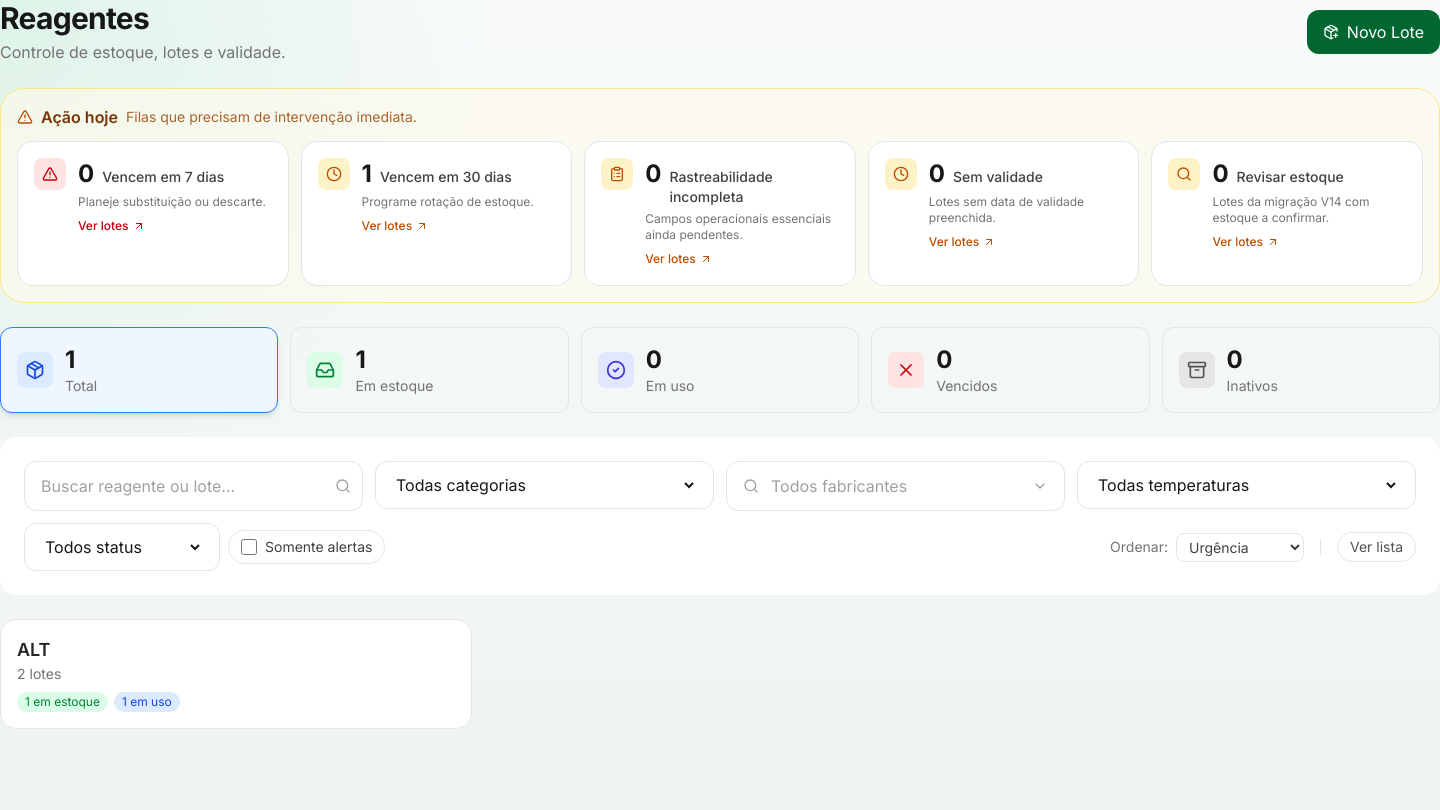
Test: ReagentesTab v3 › valida etiqueta antes de cadastrar lote novo
The width and height of the screenshot is (1440, 810).
Click the button "Novo Lote" at (1373, 32), box [1307,10,1439,54]
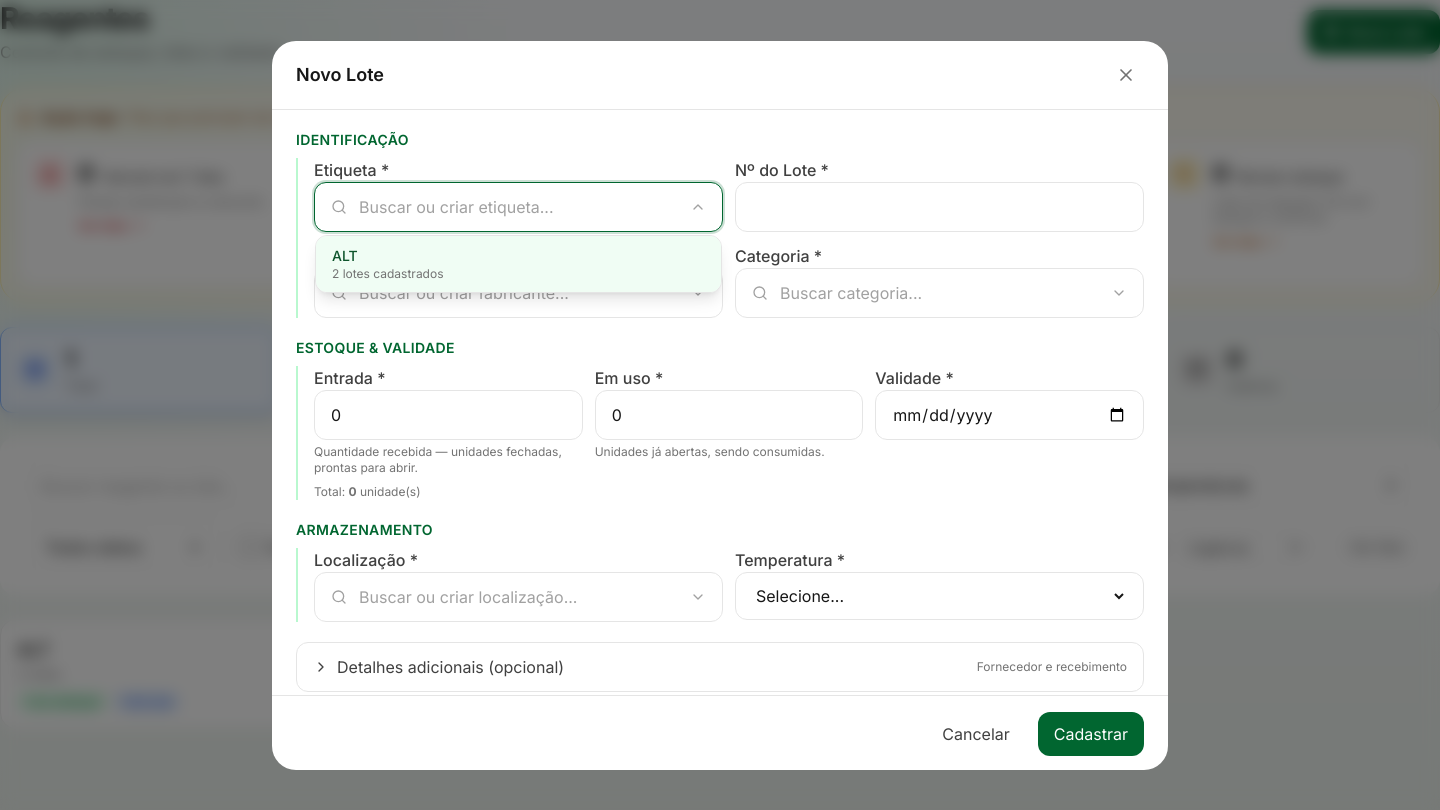
Click the button "Cadastrar" at (1091, 734), box [1038,712,1144,756]
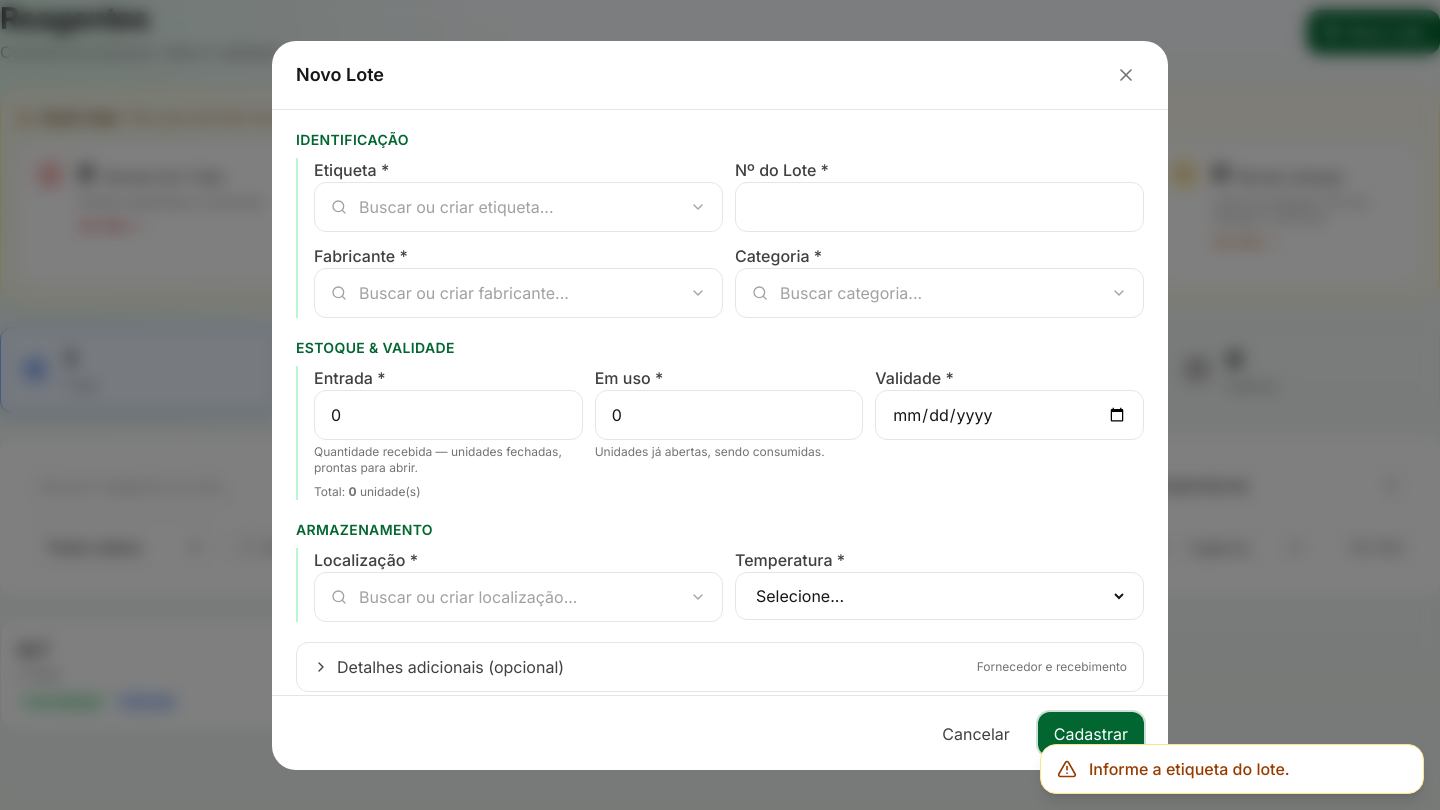
Result: the text "Informe a etiqueta do lote." is shown at [1089,757,1290,781]
